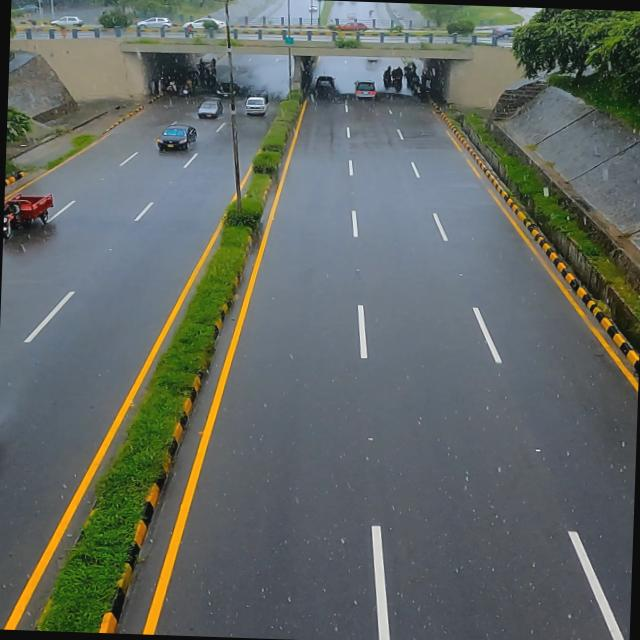Vehicle: (2, 187, 58, 246), (150, 120, 198, 156)
